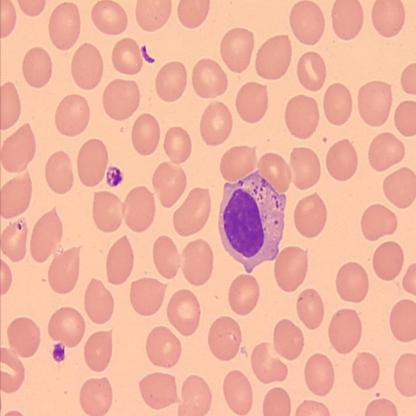Atypical lymphocyte: (217, 170, 288, 273)
